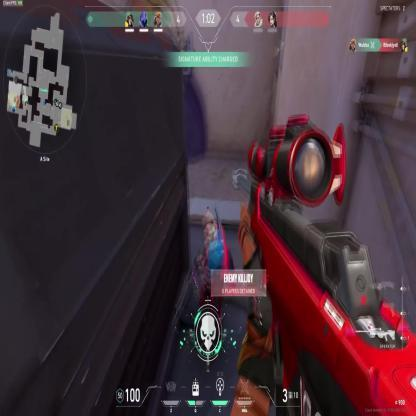enemy: (190, 204, 235, 358)
enemy_head: (202, 214, 215, 243)
